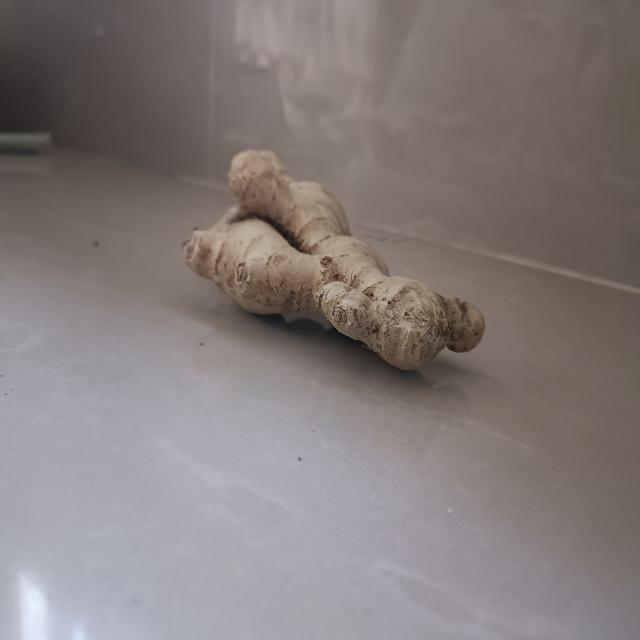ginger: (180, 143, 489, 376)
